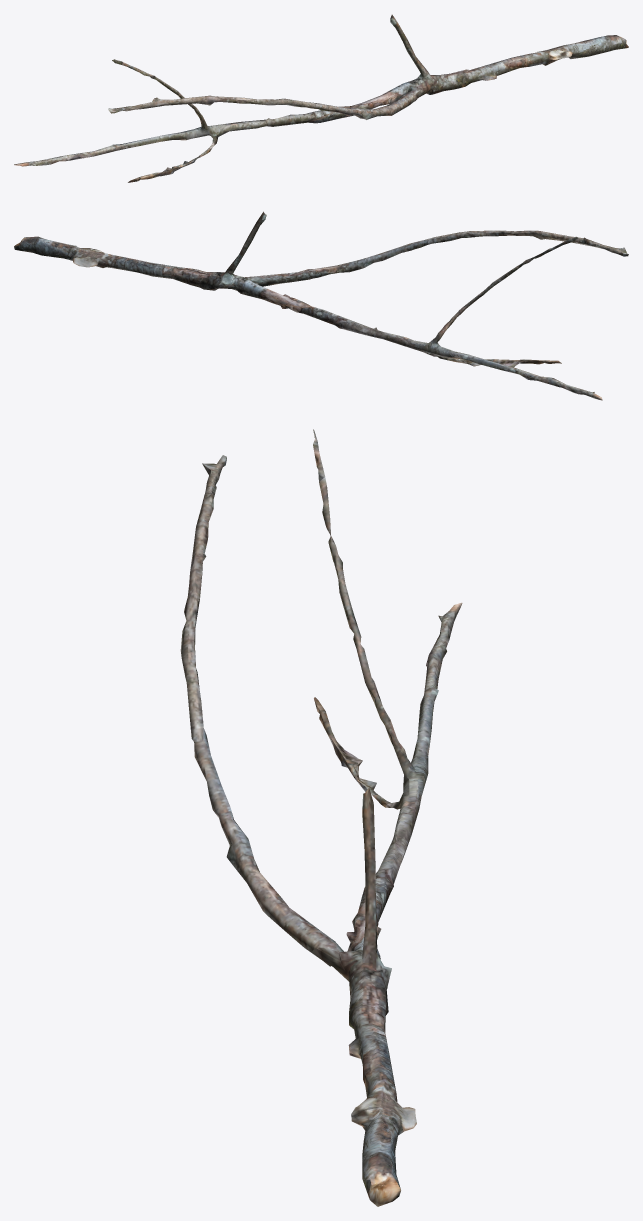
Rendered from SM_Branch_01.fbx.
3 renders of one model, top to bottom at view 1: azimuth 30°, elevation 25°; view 2: azimuth 150°, elevation 25°; view 3: azimuth 270°, elevation 25°, orthographic. The views are drawn at different scales.
Parts seen in each view (by area): view 1: SM_Branch_01; view 2: SM_Branch_01; view 3: SM_Branch_01.
Boxes of the visible parts, box(x1,y1,x2,y2) form: SM_Branch_01: box(14, 14, 628, 182); SM_Branch_01: box(14, 211, 628, 400); SM_Branch_01: box(180, 429, 462, 1206).
Bounding box in the file's own units: 467 × 95.94 × 103.
Materials: 1 (1 with a texture image).
